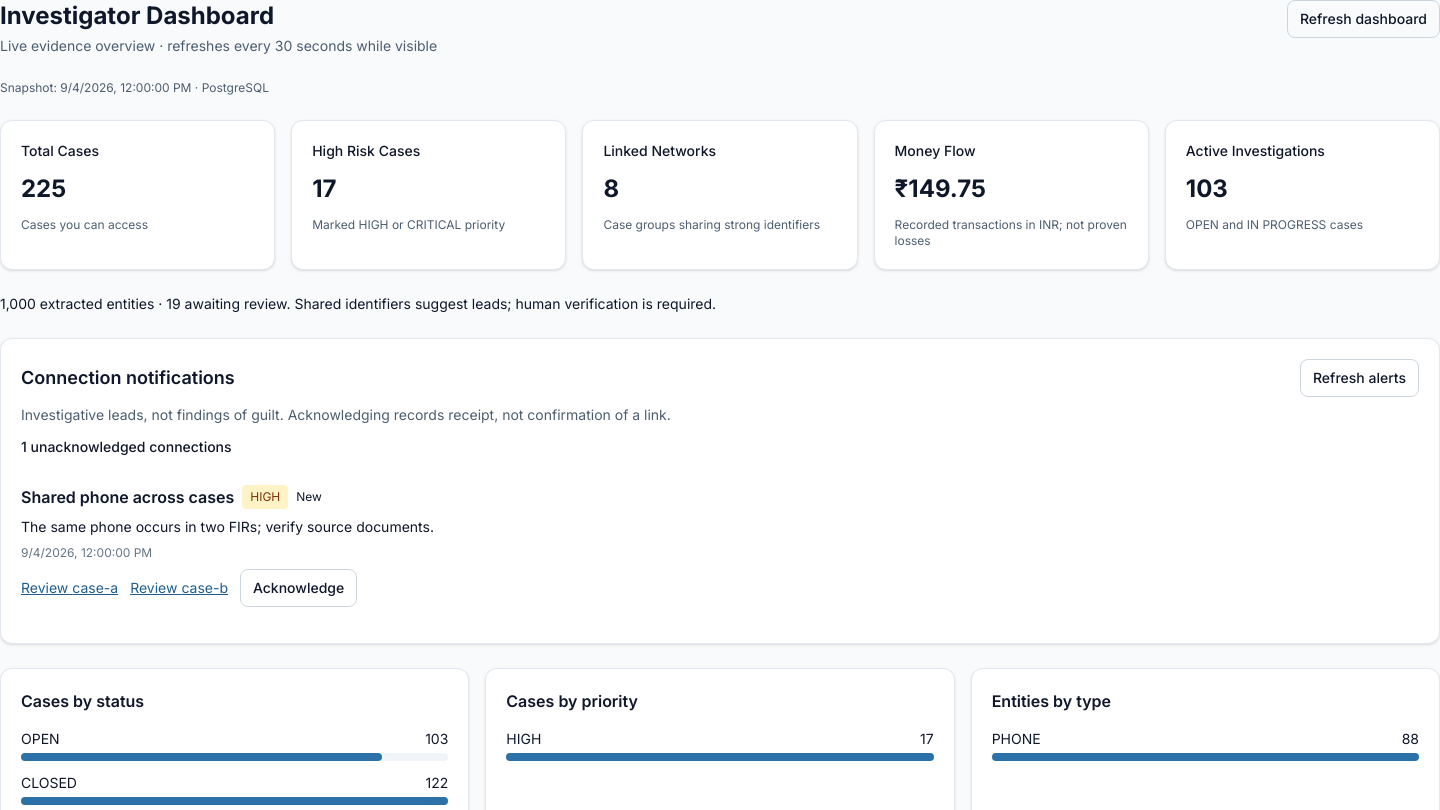
Test: acknowledgement waits for the server and refreshes the persisted queue
Click the button "Acknowledge".
click(299, 588)  # box x1=240 y1=569 x2=357 y2=607
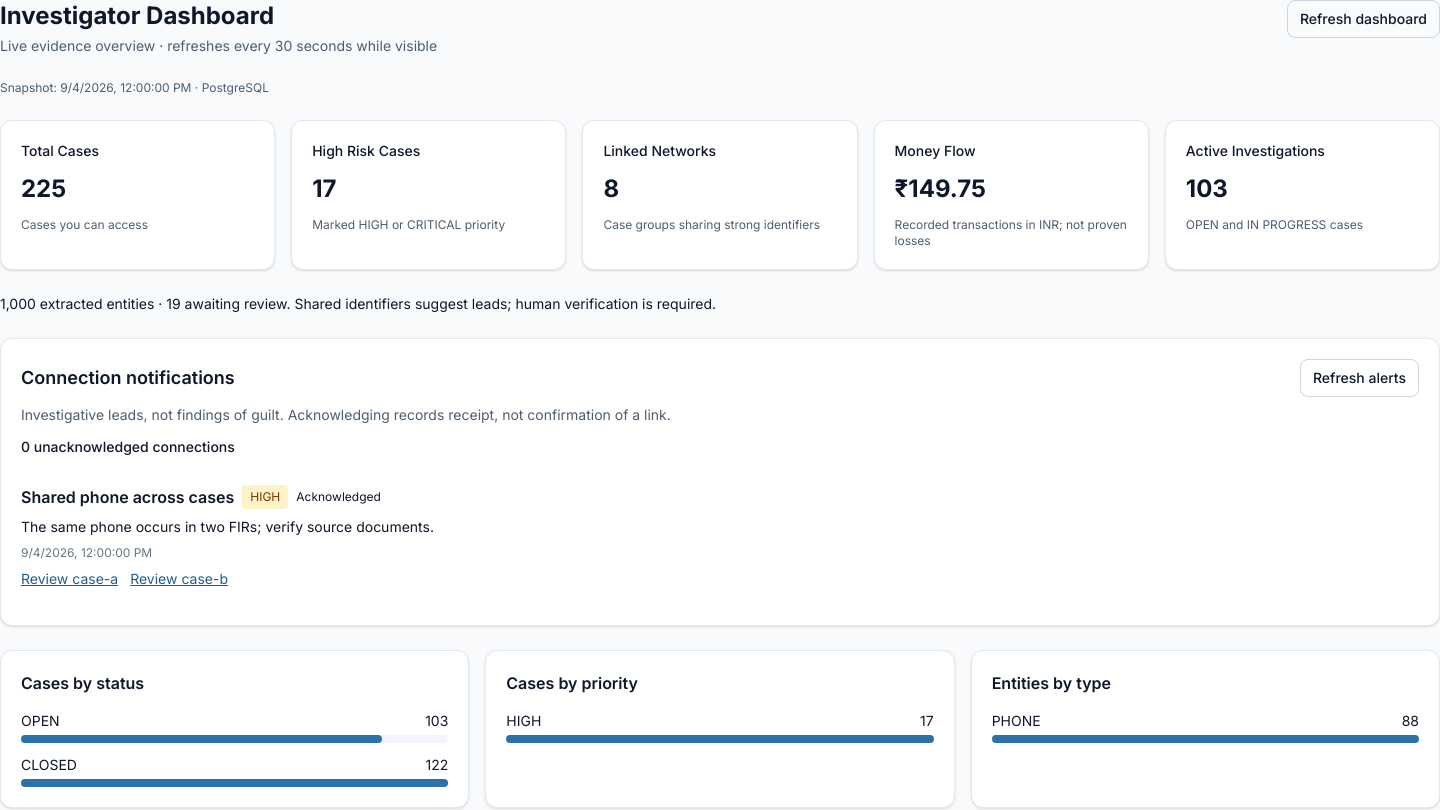
Now the text "Acknowledged" is shown, box x1=296 y1=489 x2=381 y2=505
Now the text "0 unacknowledged connections" is shown, box x1=21 y1=438 x2=235 y2=455
